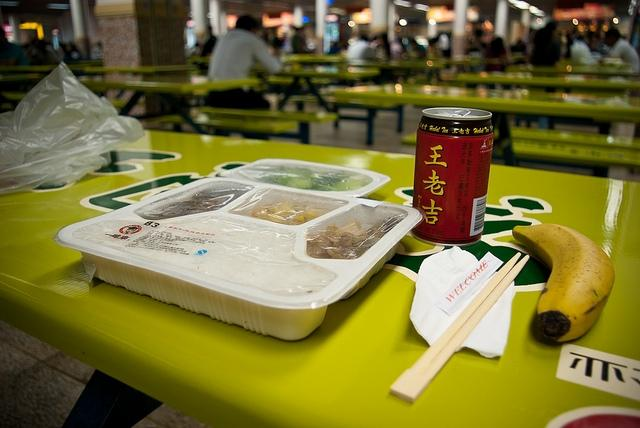banana: (512, 224, 615, 344)
